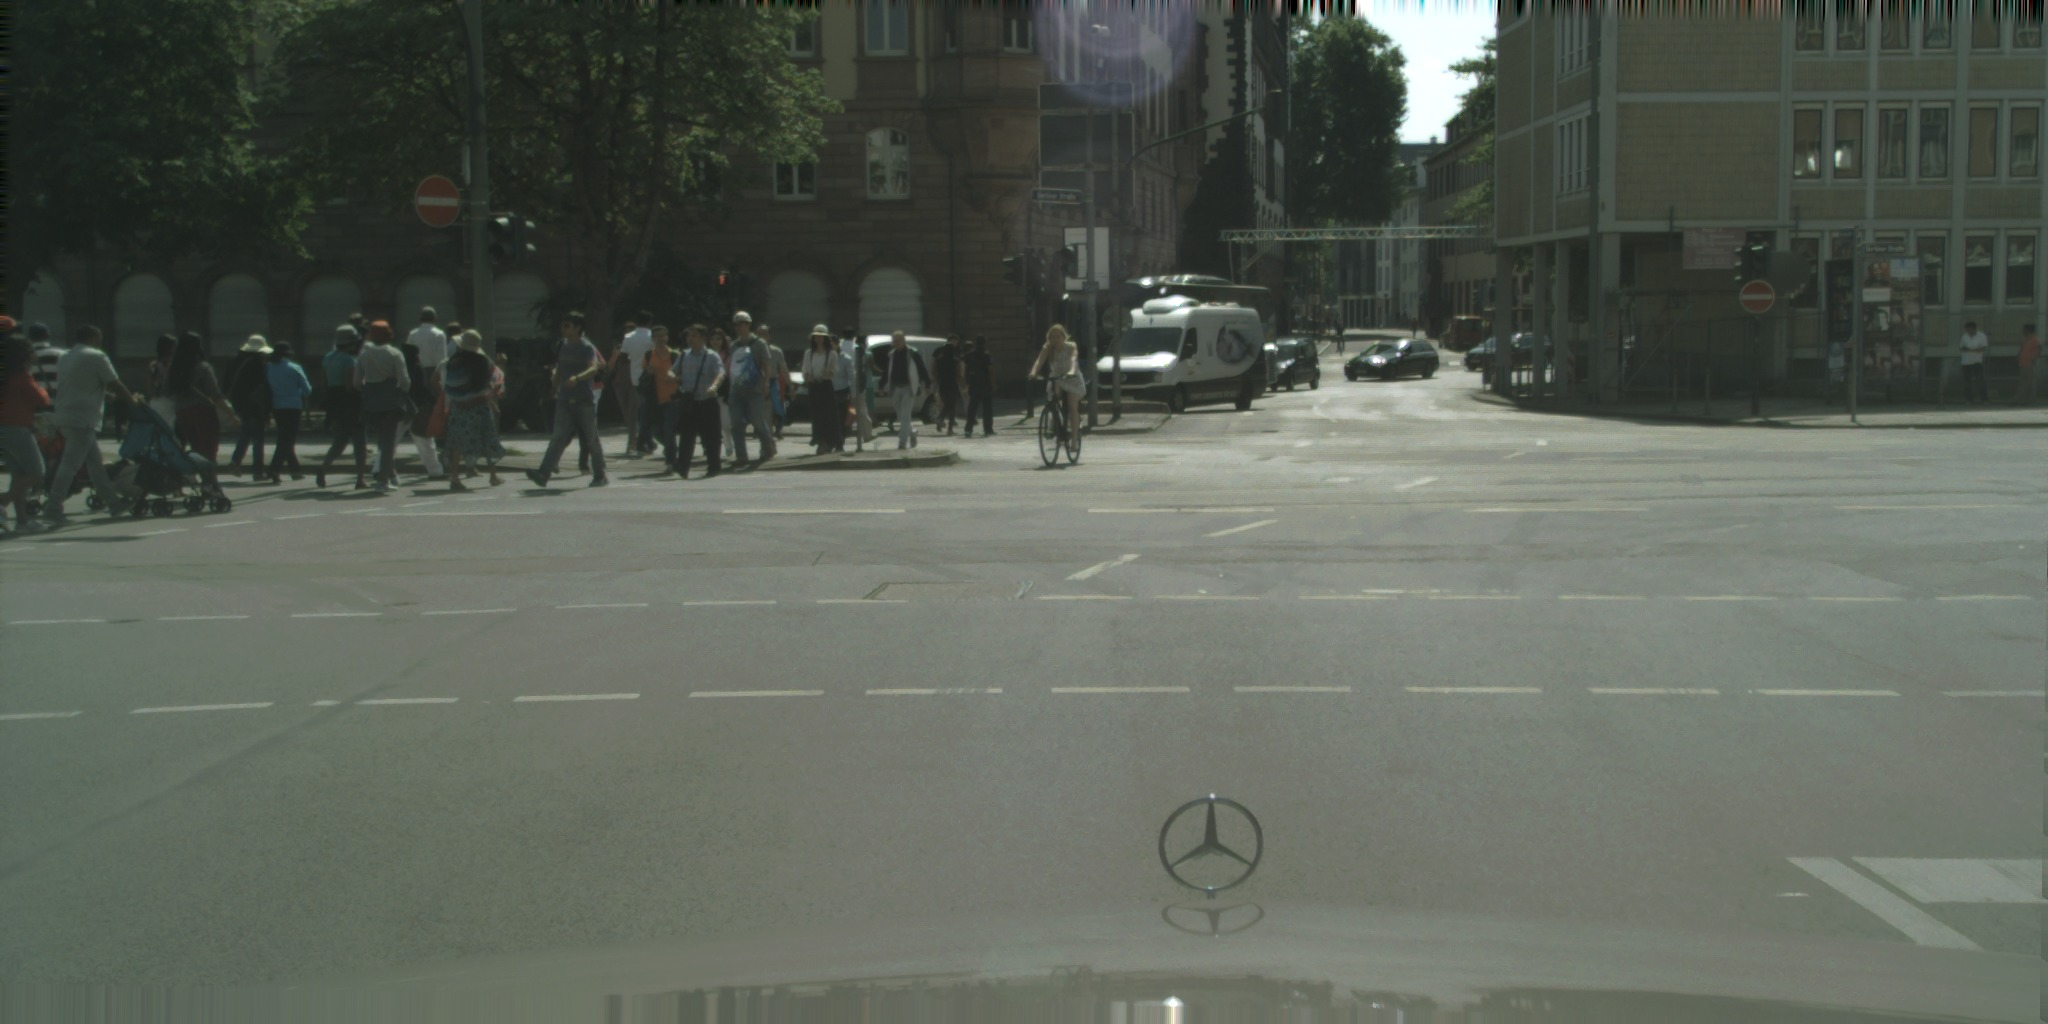bicycle: (1030, 373, 1082, 469), (1334, 333, 1343, 356)
bus: (1122, 273, 1277, 375)
car: (1090, 294, 1280, 414), (765, 333, 959, 425), (1343, 338, 1440, 382), (1250, 335, 1321, 392), (1462, 332, 1557, 373), (1448, 316, 1484, 352), (1438, 321, 1462, 349)
person: (41, 321, 145, 525), (526, 311, 610, 488), (166, 330, 242, 499), (314, 322, 387, 491), (0, 333, 54, 537), (354, 318, 417, 491), (439, 329, 506, 490), (405, 307, 479, 449), (382, 343, 452, 487), (665, 322, 727, 480), (212, 332, 277, 482), (14, 324, 79, 477), (638, 326, 702, 476), (424, 337, 487, 480), (550, 327, 607, 474), (727, 310, 774, 468), (261, 338, 311, 485), (145, 335, 191, 476), (879, 329, 931, 450), (705, 329, 754, 457), (801, 322, 845, 455), (619, 308, 657, 457), (608, 319, 645, 461), (839, 326, 879, 442), (853, 335, 898, 427), (823, 332, 860, 439), (961, 335, 997, 439), (932, 333, 962, 436), (0, 313, 24, 441), (1958, 321, 1990, 406), (2008, 322, 2040, 406), (425, 321, 466, 386), (950, 341, 981, 427), (346, 313, 378, 373), (1410, 316, 1417, 344), (1332, 314, 1340, 335), (1324, 313, 1331, 337), (1364, 314, 1370, 327)
rider: (1026, 322, 1086, 452), (181, 452, 225, 499), (1337, 322, 1345, 352)
